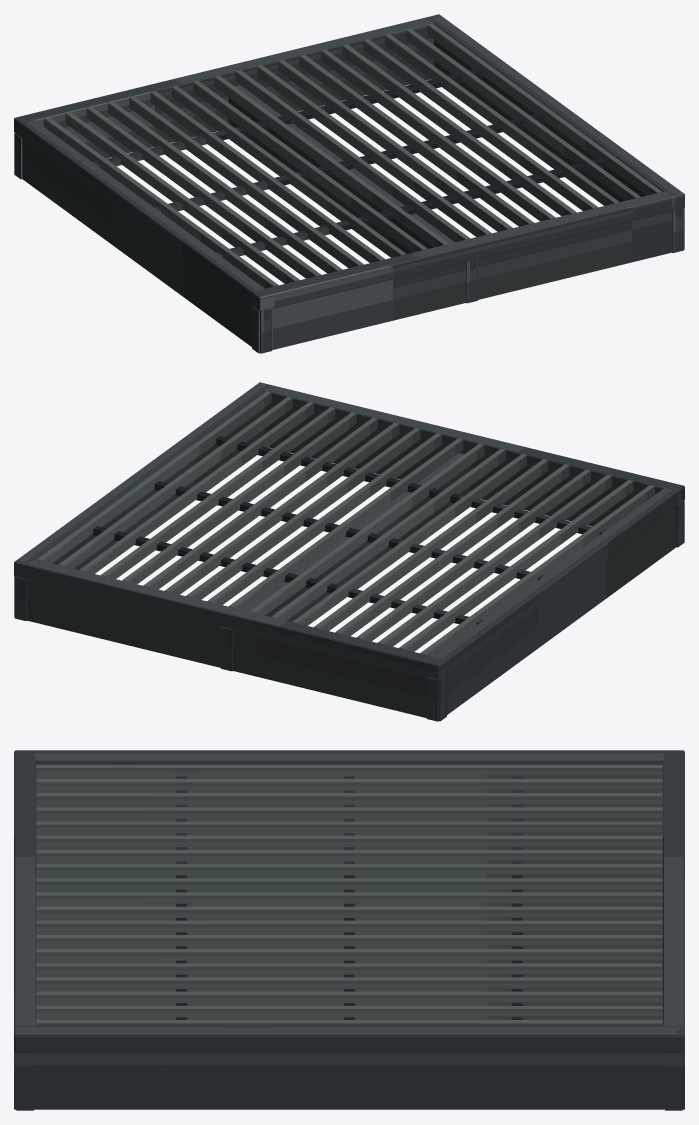
File: sewer_grate_deck.glb
The picture shows the model from 3 angles, top to bottom: view 1: azimuth 30°, elevation 25°; view 2: azimuth 150°, elevation 25°; view 3: azimuth 270°, elevation 25°; orthographic projection. The views are drawn at different scales.
Parts seen in each view (by area): view 1: BeamY0, BeamX0, DeckFrameS, DeckFrameW, DeckFrameN, BeamY1, BeamX1, DeckFrameE, DeckSlat08, DeckSlat09, DeckSlat18, DeckSlat01 (+19 smaller); view 2: BeamY1, BeamX0, DeckFrameN, DeckFrameW, DeckFrameS, BeamY0, BeamX1, DeckFrameE, DeckSlat08, DeckSlat09, DeckSlat18, DeckSlat01 (+19 smaller); view 3: BeamX2, DeckFrameE, DeckFrameW, DeckSlat00, DeckSlat11, DeckSlat02, DeckSlat03, DeckSlat04, DeckSlat05, DeckSlat07, DeckSlat08, DeckSlat09 (+17 smaller).
Boxes of the visible parts, x1=… form: BeamY0: x1=252, y1=208, x2=684, y2=353; BeamX0: x1=22, y1=138, x2=272, y2=353; DeckFrameS: x1=251, y1=190, x2=684, y2=311; DeckFrameW: x1=14, y1=115, x2=272, y2=310; DeckFrameN: x1=17, y1=15, x2=445, y2=127; BeamY1: x1=14, y1=38, x2=433, y2=179; BeamX1: x1=228, y1=85, x2=477, y2=303; DeckFrameE: x1=427, y1=14, x2=683, y2=210; DeckSlat08: x1=214, y1=75, x2=448, y2=247; DeckSlat09: x1=235, y1=70, x2=470, y2=242; DeckSlat18: x1=427, y1=23, x2=661, y2=195; DeckSlat01: x1=65, y1=112, x2=299, y2=283; BeamY1: x1=14, y1=576, x2=446, y2=721; BeamX0: x1=426, y1=506, x2=676, y2=721; DeckFrameN: x1=14, y1=558, x2=447, y2=679; DeckFrameW: x1=426, y1=483, x2=684, y2=678; DeckFrameS: x1=253, y1=383, x2=682, y2=504; BeamY0: x1=265, y1=406, x2=684, y2=547; BeamX1: x1=221, y1=453, x2=470, y2=671; DeckFrameE: x1=14, y1=382, x2=271, y2=578; DeckSlat08: x1=250, y1=443, x2=484, y2=615; DeckSlat09: x1=228, y1=438, x2=463, y2=610; DeckSlat18: x1=37, y1=391, x2=271, y2=563; DeckSlat01: x1=399, y1=480, x2=633, y2=651; BeamX2: x1=14, y1=1052, x2=684, y2=1109; DeckFrameE: x1=14, y1=1024, x2=684, y2=1053; DeckFrameW: x1=18, y1=750, x2=683, y2=764; DeckSlat00: x1=36, y1=764, x2=662, y2=778; DeckSlat11: x1=36, y1=920, x2=662, y2=934; DeckSlat02: x1=36, y1=793, x2=662, y2=807; DeckSlat03: x1=36, y1=807, x2=662, y2=821; DeckSlat04: x1=36, y1=821, x2=662, y2=835; DeckSlat05: x1=36, y1=835, x2=662, y2=849; DeckSlat07: x1=36, y1=864, x2=662, y2=878; DeckSlat08: x1=36, y1=878, x2=662, y2=892; DeckSlat09: x1=36, y1=892, x2=662, y2=906.
Bounding box in the file's own units: 3 × 0.38 × 3.
Materials: 2 (2 with a texture image).
